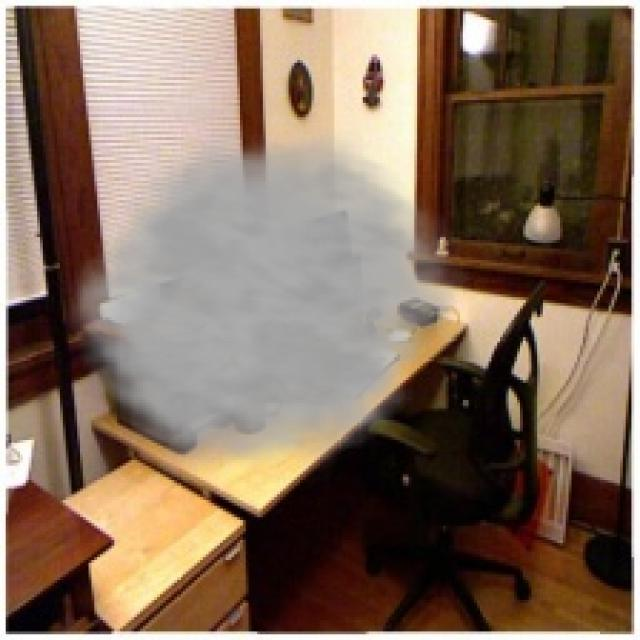Smoke: (57, 128, 477, 486)
